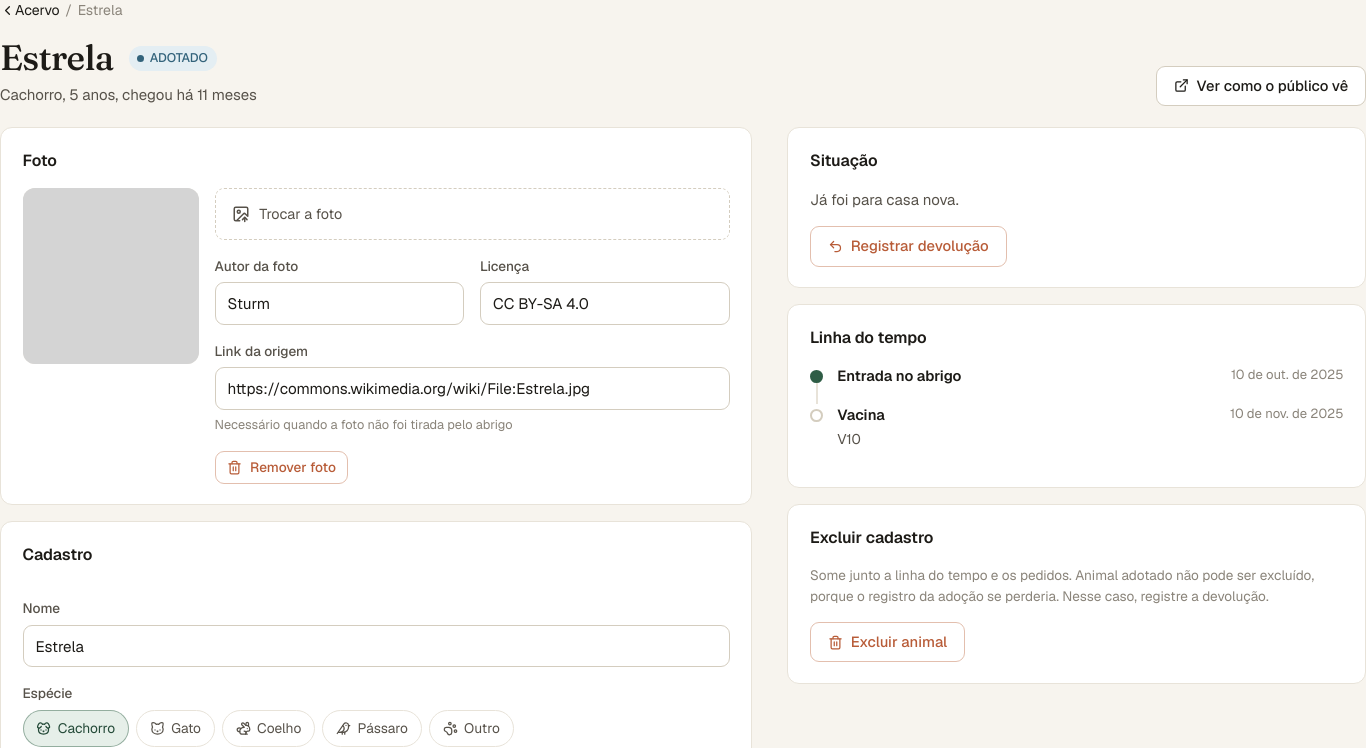
Test case: gerenciar animal › com o animal ADOTADO oferece "Registrar devolução"
This screenshot has width=1366, height=748.
What coordinates should you click on to do the following:
click the button "Registrar devolução"
I would click on:
 (908, 246)
Its box is [810,226,1007,267].
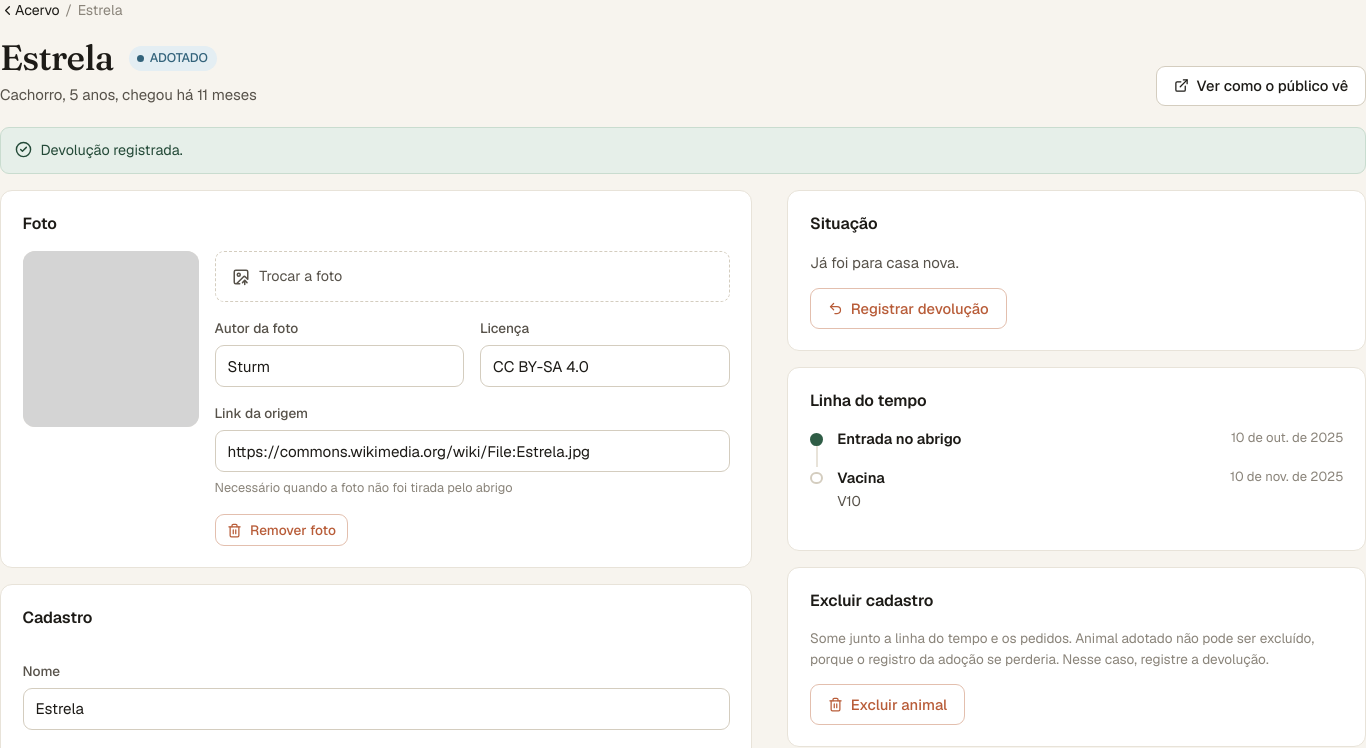
Now the text "Devolução registrada." is shown, box [40,139,183,162]
